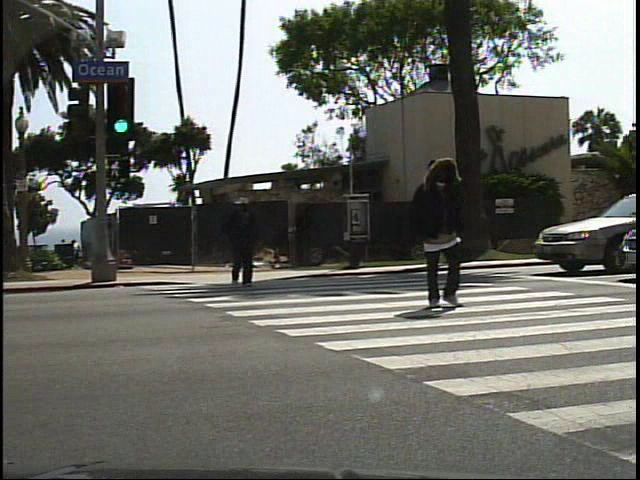person: (403, 154, 485, 318), (225, 194, 262, 294)
